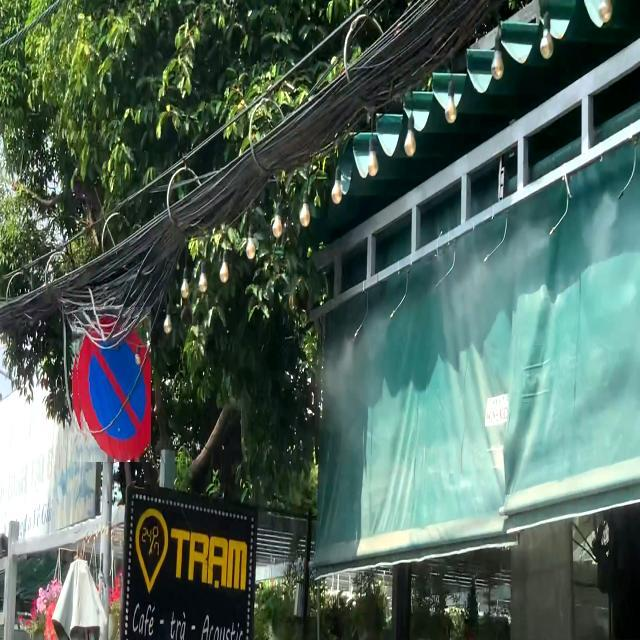P-131a: (72, 307, 151, 462)
